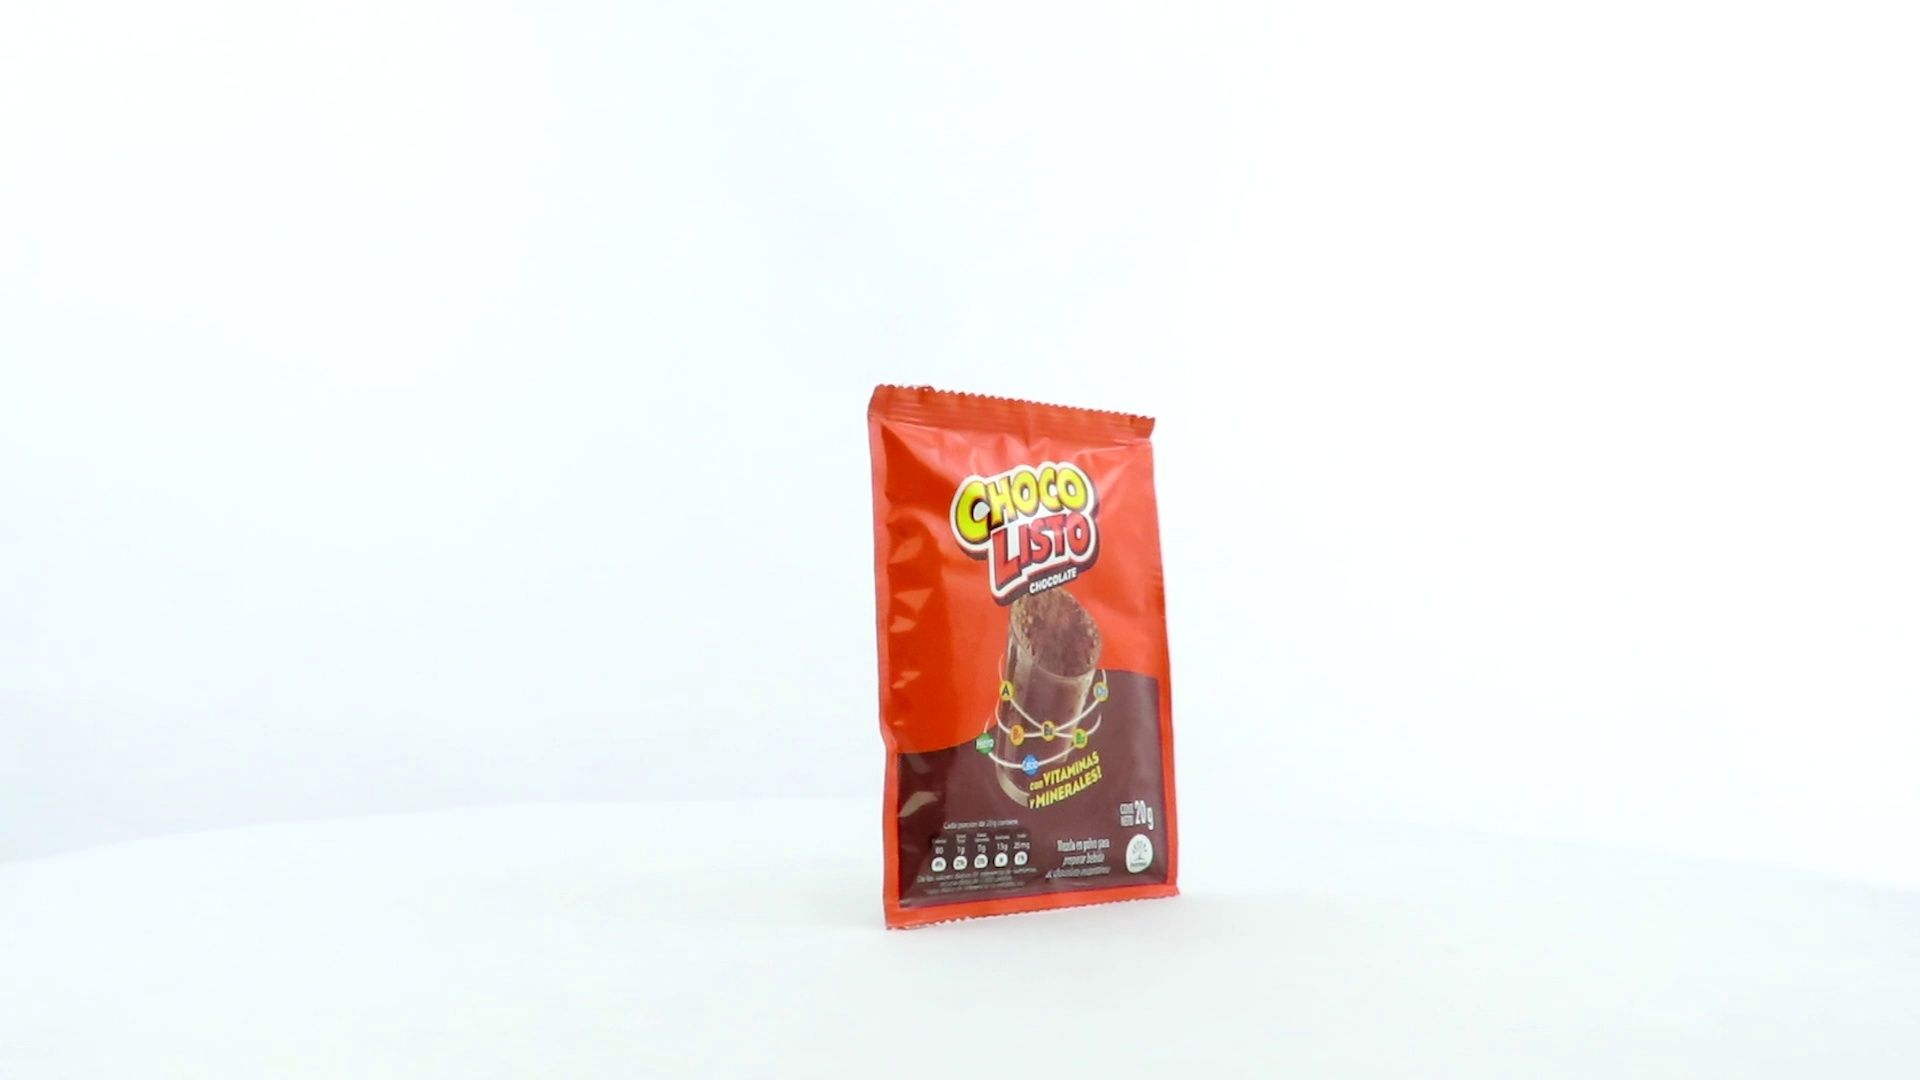COL0170103SOB02000: (862, 378, 1185, 938)
